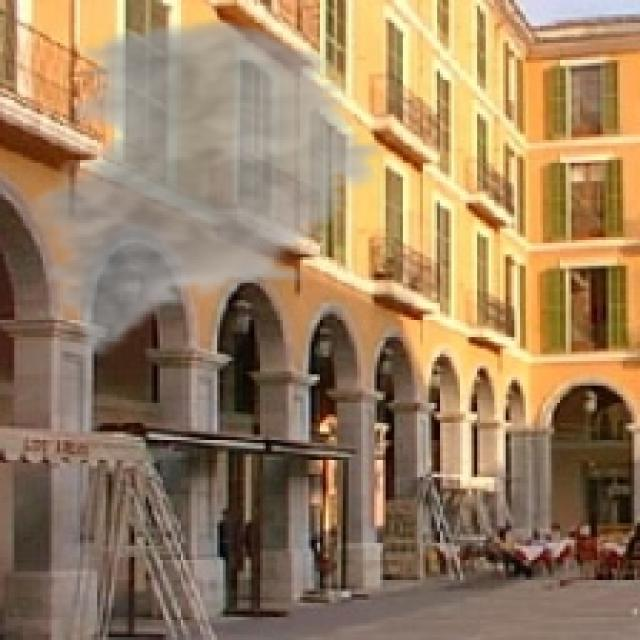smoke: (20, 14, 391, 360)
